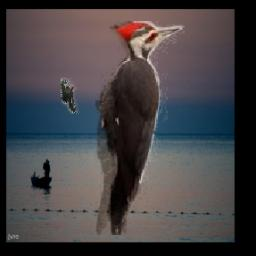Woodpecker: (95, 22, 185, 236), (60, 77, 78, 114)
